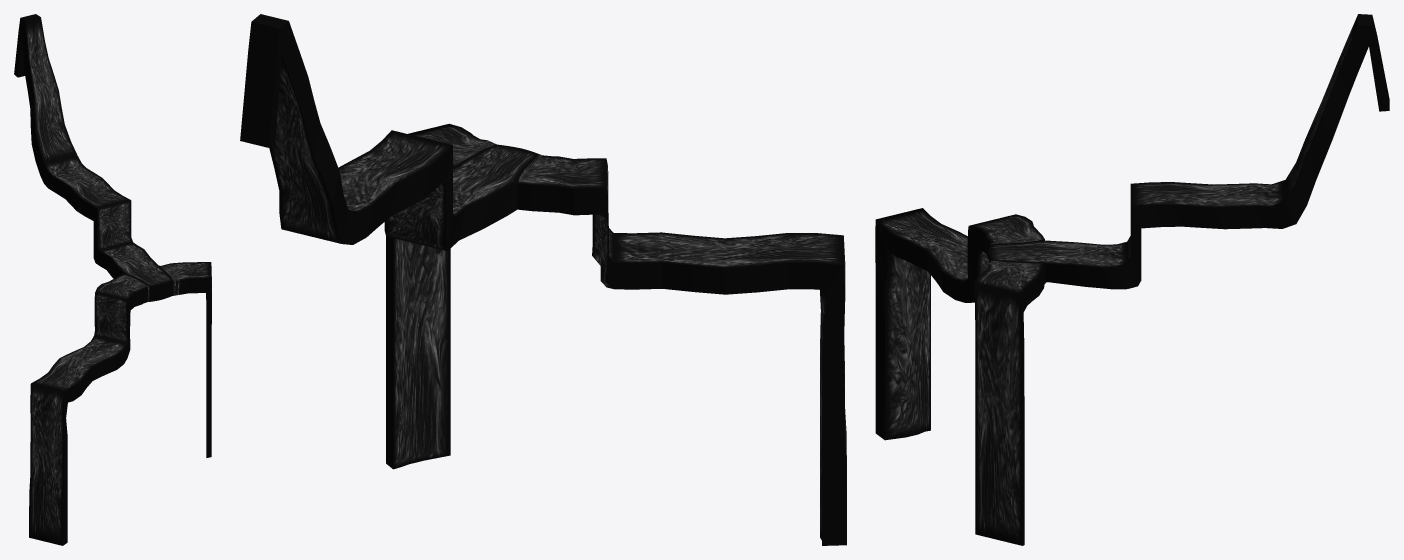
File: Lava_08.fbx
The picture shows the model from 3 angles, left to right: view 1: azimuth 30°, elevation 25°; view 2: azimuth 150°, elevation 25°; view 3: azimuth 270°, elevation 25°; orthographic projection. The views are drawn at different scales.
Visible parts, largest first — view 1: polySurface84; view 2: polySurface84; view 3: polySurface84.
Boxes of the visible parts, <box> form: polySurface84: <box>14,14,211,545</box>; polySurface84: <box>240,14,846,545</box>; polySurface84: <box>875,14,1389,545</box>.
Bounding box in the file's own units: 1441 × 2313 × 2104.
